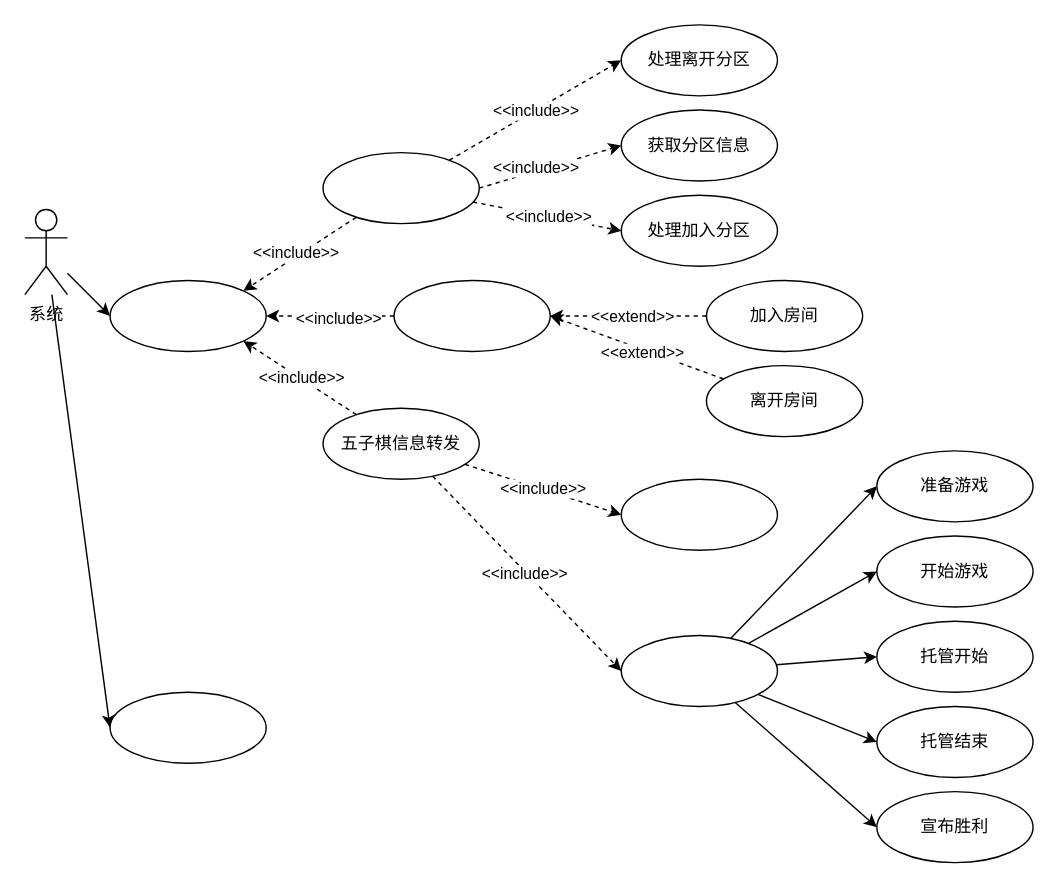
The diagram is 1058 pixels wide and 888 high, and some of its shapes have lost their labels. The shapes that lost their labels are listed below. From the top down, each one's centre as x and y in pixels, then its label:
At pixel 400 187: "分区管理".
At pixel 187 315: "登录".
At pixel 471 315: "房间管理".
At pixel 698 514: "五子棋落子转发".
At pixel 698 670: "五子棋命令转发".
At pixel 187 727: "注册".
